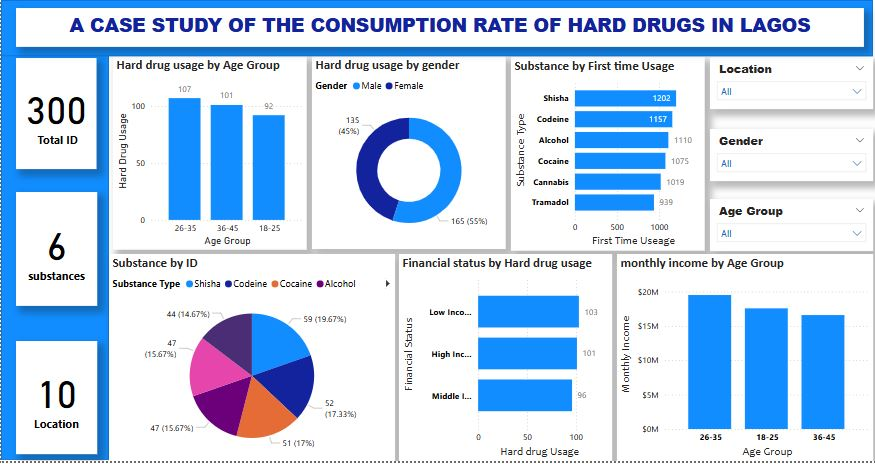

The page's visual inventory and layout, read from the dashboard file:
{"tool":"powerbi","page":{"name":"Page 1","canvas":[1280,720],"ordinal":0},"visuals":[{"type":"clusteredColumnChart","title":"Usage Frequency by Age Group","fields":{"Category":["substance usage in lagas.Age Group"],"Y":["CountNonNull(substance usage in lagas.Usage Frequency)"]},"box":[161.3,136.8,279.4,279.4],"z":0},{"type":"donutChart","title":"Usage Frequency by gender","fields":{"Category":["substance usage in lagas.Gender"],"Y":["CountNonNull(substance usage in lagas.Usage Frequency)"]},"box":[447.8,136.8,279.4,277.9],"z":1000},{"type":"barChart","title":"Substance by First time Usage","fields":{"Y":["Sum(substance usage in lagas.First Time Use Age)"],"Category":["substance usage in lagas.Substance Type"]},"box":[734.1,137.7,278.8,278.8],"z":2000},{"type":"pieChart","title":"Substance by ID","fields":{"Category":["substance usage in lagas.Substance Type"],"Y":["CountNonNull(substance usage in lagas.ID)"]},"box":[156.2,421.6,411.5,299],"z":3000},{"type":"barChart","title":"Financial status by Usage Frequency","fields":{"Category":["substance usage in lagas.Financial Status"],"Y":["CountNonNull(substance usage in lagas.Usage Frequency)"]},"box":[573.1,421.9,306.7,298.1],"z":4000},{"type":"slicer","title":"location","fields":{"Values":["substance usage in lagas.Location"]},"box":[1021,138.2,234.7,74.9],"z":5000},{"type":"slicer","title":"location","fields":{"Values":["substance usage in lagas.Gender"]},"box":[1021,241.9,234.7,74.9],"z":6000},{"type":"slicer","title":"location","fields":{"Values":["substance usage in lagas.Age Group"]},"box":[1021,342.7,234.7,74.9],"z":7000},{"type":"textbox","box":[0,46.1,1280.2,56.2],"z":8000},{"type":"card","title":"substance by first time usage","fields":{"Values":["CountNonNull(substance usage in lagas.ID)"]},"box":[33.1,138.2,116.6,161.3],"z":9000},{"type":"lineStackedColumnComboChart","title":"Age Group by Monthly Income","fields":{"Category":["substance usage in lagas.Location"],"Y":["CountNonNull(substance usage in lagas.ID)"],"Y2":["Sum(substance usage in lagas.Monthly Income (₦))"]},"box":[887,421.9,368.6,298.1],"z":10000},{"type":"card","title":"substance by first time usage","fields":{"Values":["Count(substance usage in lagas.Substance Type)"]},"box":[33.1,342.7,116.6,164.2],"z":11000},{"type":"card","title":"substance by first time usage","fields":{"Values":["Count(substance usage in lagas.Location)"]},"box":[33.1,557.3,116.6,162.7],"z":12000}]}

Visuals, with their boxes on the page's 1280x720 design canvas (x1, y1, x2, y2). These are canvas units, not pixel positions in the 875x464 screenshot, which may show the page scaled, cropped or inside an application window:
"Usage Frequency by Age Group" clusteredColumnChart: bbox(161, 137, 441, 416)
"Usage Frequency by gender" donutChart: bbox(448, 137, 727, 415)
"Substance by First time Usage" barChart: bbox(734, 138, 1013, 416)
"Substance by ID" pieChart: bbox(156, 422, 568, 721)
"Financial status by Usage Frequency" barChart: bbox(573, 422, 880, 720)
"location" slicer: bbox(1021, 138, 1256, 213)
"location" slicer: bbox(1021, 242, 1256, 317)
"location" slicer: bbox(1021, 343, 1256, 418)
textbox: bbox(0, 46, 1280, 102)
"substance by first time usage" card: bbox(33, 138, 150, 300)
"Age Group by Monthly Income" lineStackedColumnComboChart: bbox(887, 422, 1256, 720)
"substance by first time usage" card: bbox(33, 343, 150, 507)
"substance by first time usage" card: bbox(33, 557, 150, 720)
